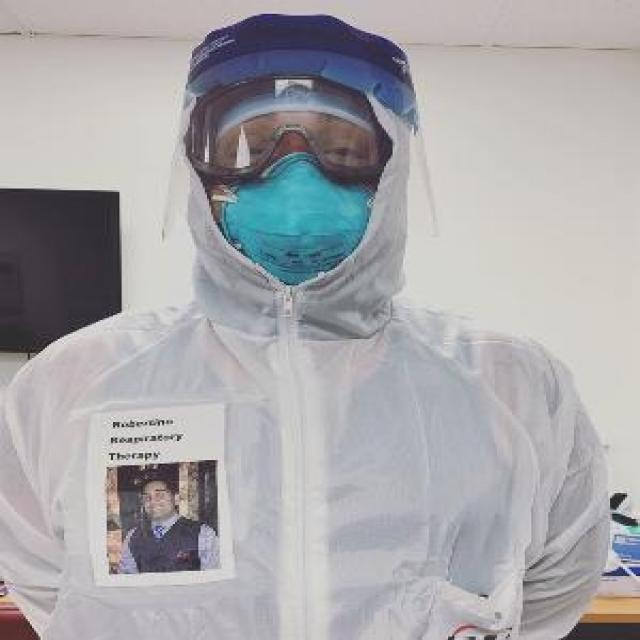Face_Shield: (156, 33, 446, 261)
Goggles: (177, 72, 399, 182)
